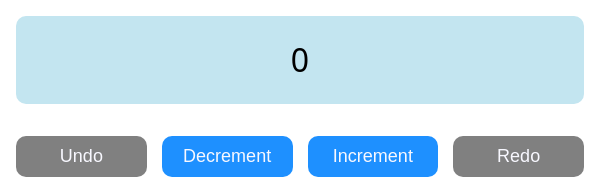
Test case: History Controller › Clicking Increment increases count value by 1
The width and height of the screenshot is (601, 194).
Click the button with test id "increment-btn".
click(373, 156)  # box [308,136,438,177]
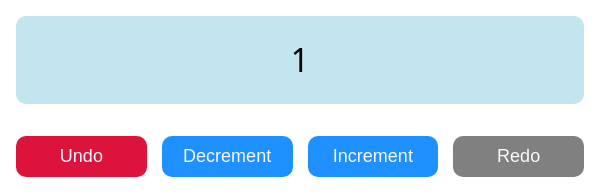
expect the text with test id "counter-value" reads "1": met, box [291,38,309,81]
